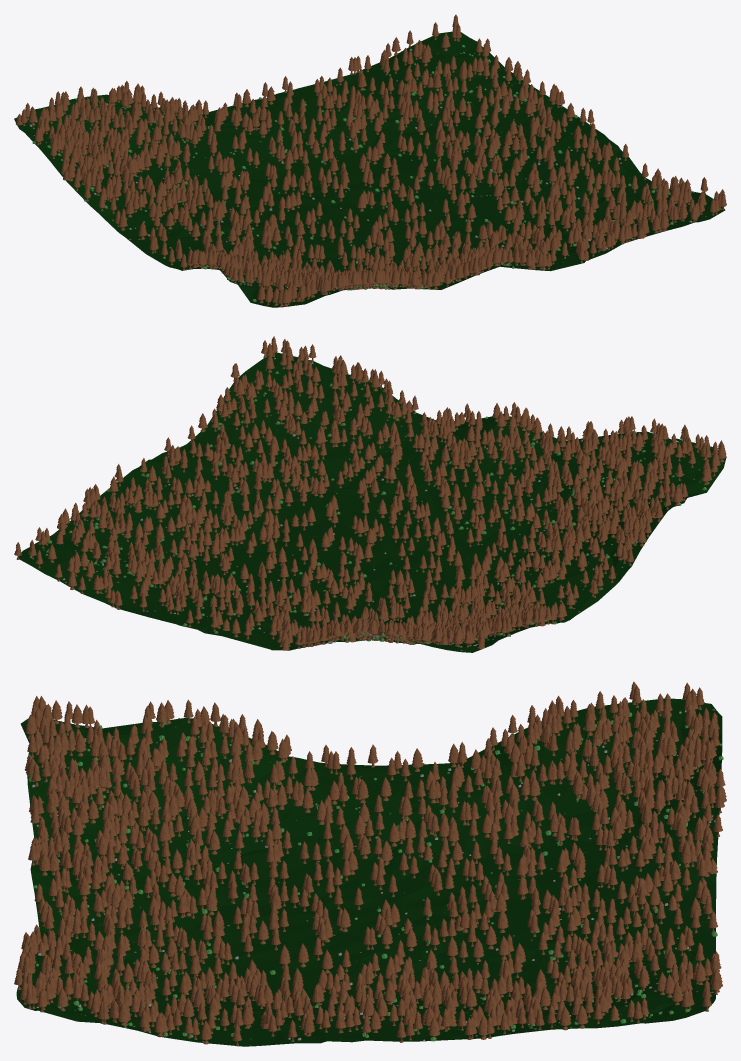
File: Floresta_again_AGAINfbx.fbx
3 renders of one model, top to bottom at view 1: azimuth 30°, elevation 25°; view 2: azimuth 150°, elevation 25°; view 3: azimuth 270°, elevation 25°, orthographic. The views are drawn at different scales.
Visible parts, largest first — view 1: Plane; view 2: Plane; view 3: Plane.
Boxes of the visible parts, x1=… form: Plane: x1=14, y1=31, x2=725, y2=307; Plane: x1=18, y1=352, x2=726, y2=652; Plane: x1=16, y1=698, x2=722, y2=1046.
Bounding box in the file's own units: 3440 × 527 × 3401.
